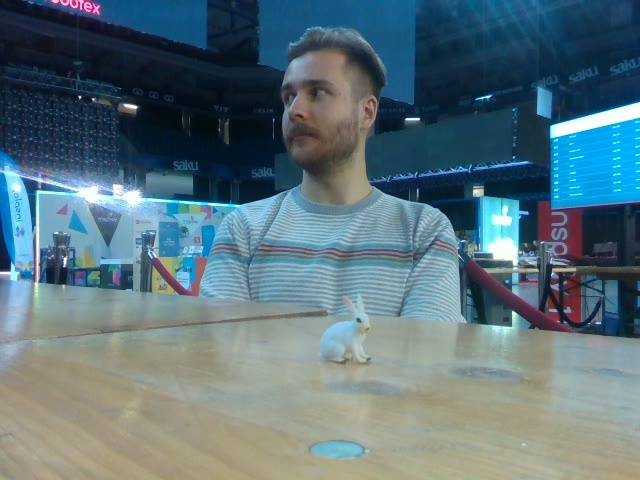toy: (321, 297, 373, 363)
